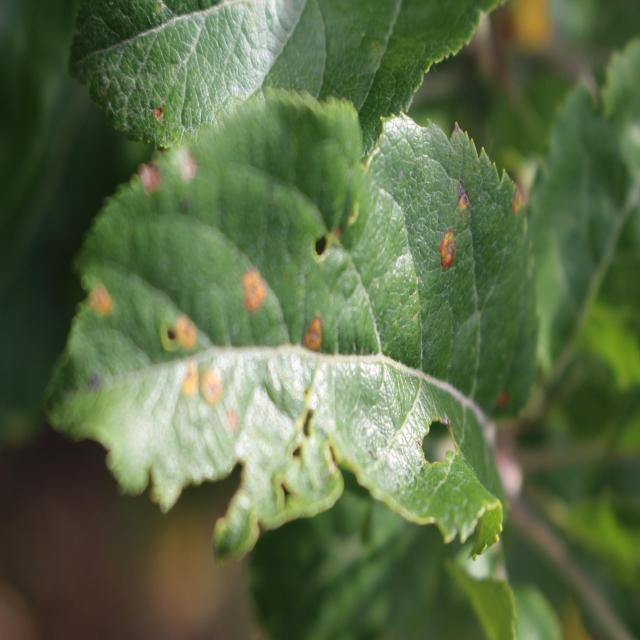Rust: (298, 314, 338, 363), (200, 353, 227, 424), (236, 267, 272, 317), (435, 220, 460, 284), (169, 299, 199, 352), (88, 280, 117, 332), (181, 356, 200, 407), (221, 403, 240, 442), (508, 181, 527, 219)
